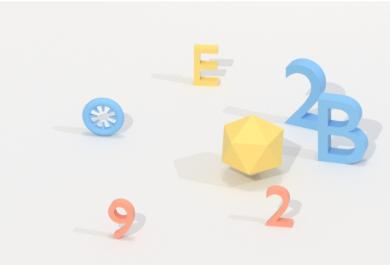0-TronCanh: (219, 112, 287, 179)
0-TronLo: (79, 94, 127, 139)
2: (282, 56, 327, 132), (264, 182, 296, 230)
9: (104, 194, 139, 244)
B: (315, 88, 370, 167)
E: (192, 42, 222, 89)
